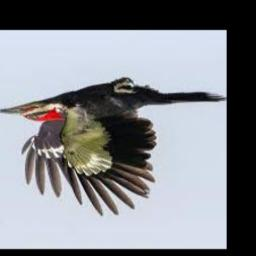Woodpecker: (0, 77, 226, 217)
